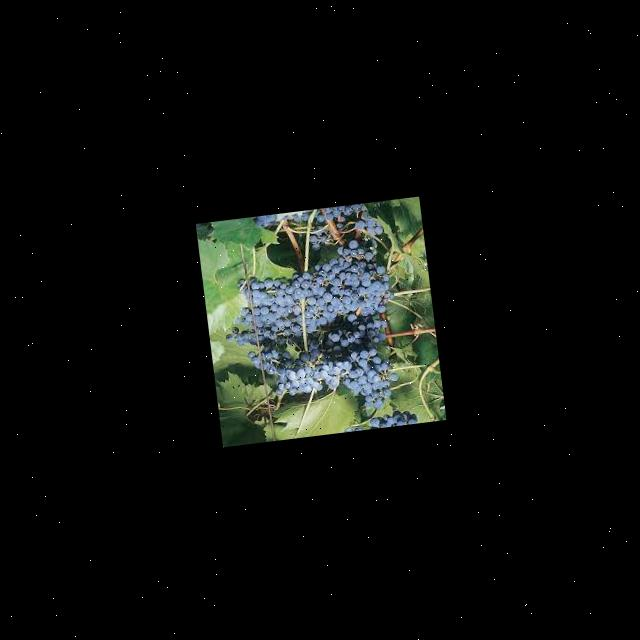grape: (250, 256, 394, 334), (272, 342, 393, 416)
